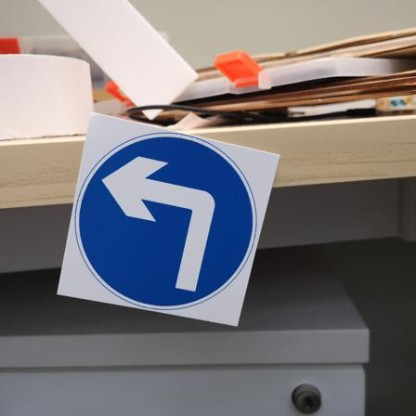left: (64, 115, 281, 318)
